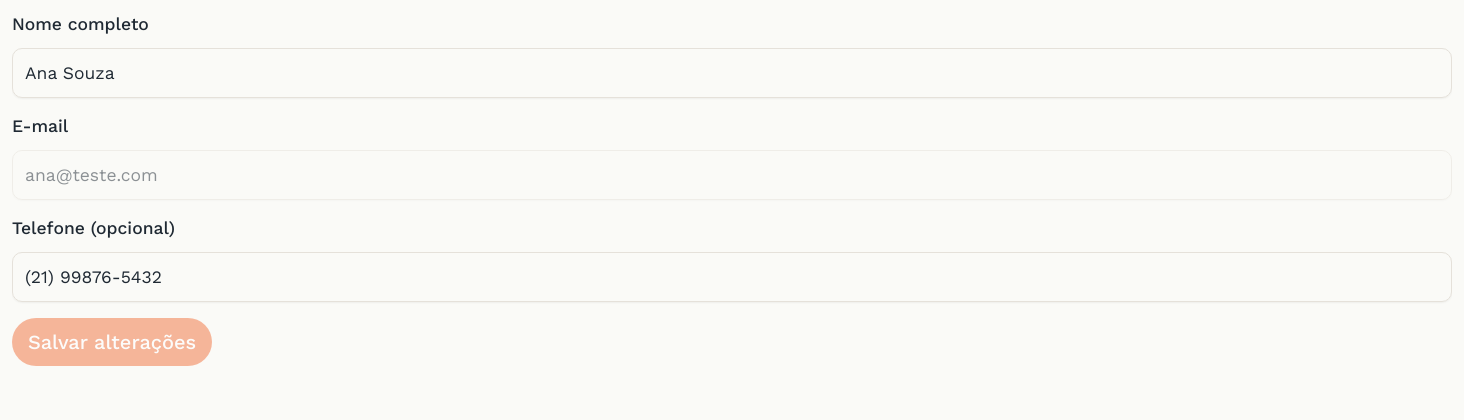
Test: ProfileForm › não salva com nome curto
The image size is (1464, 420).
Replace the text in the field labelled "Nome completo" with "A" at (732, 73), box [12,48,1452,98]
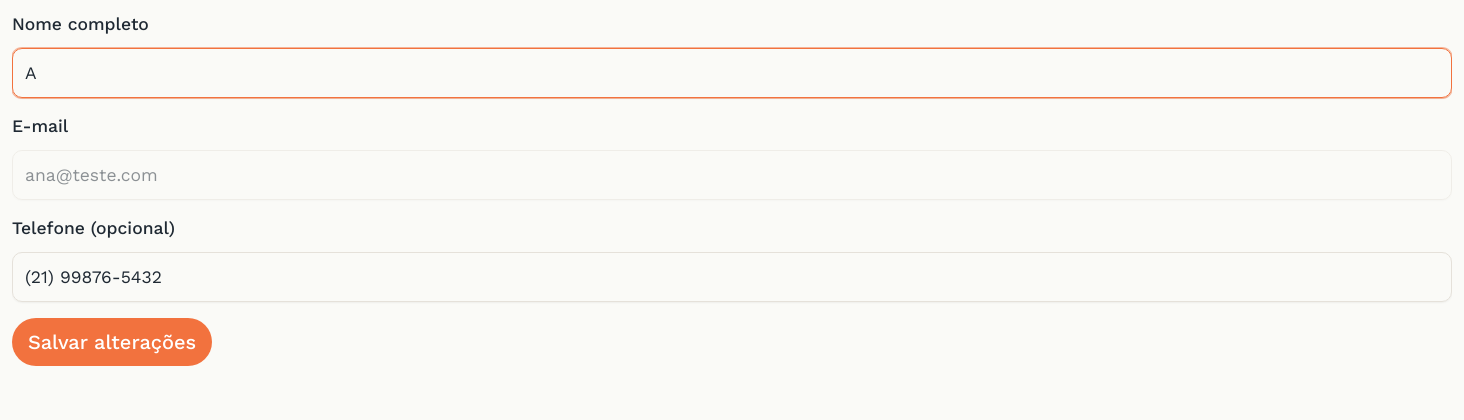
Click the button "Salvar alterações" at (112, 342), box [12,318,212,366]
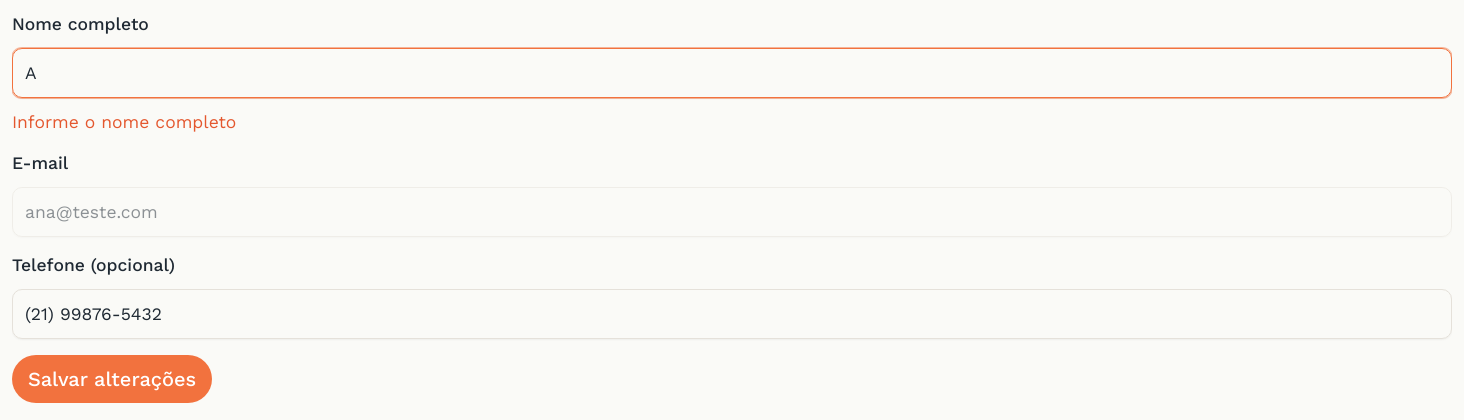
Now the text "Informe o nome completo" is shown, box [12,112,236,132]
